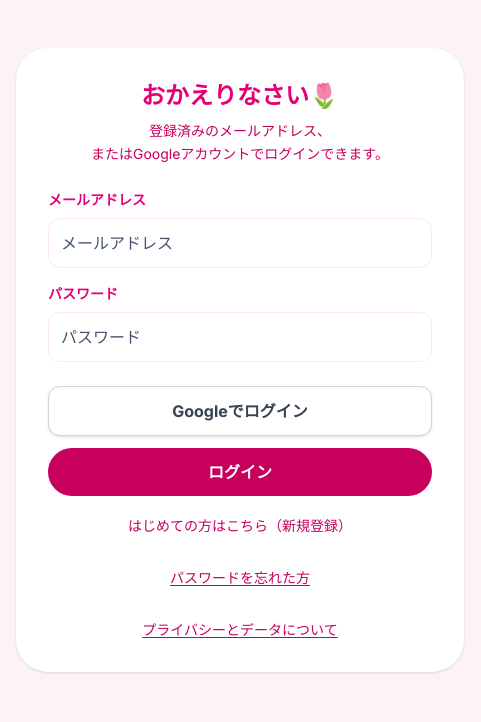
Test: LoginPage › メール未入力とパスワード未入力では認証通信せず入力エラーを表示する
Step 1. Click the button "ログイン" → point(240, 472), box [48, 448, 432, 496]
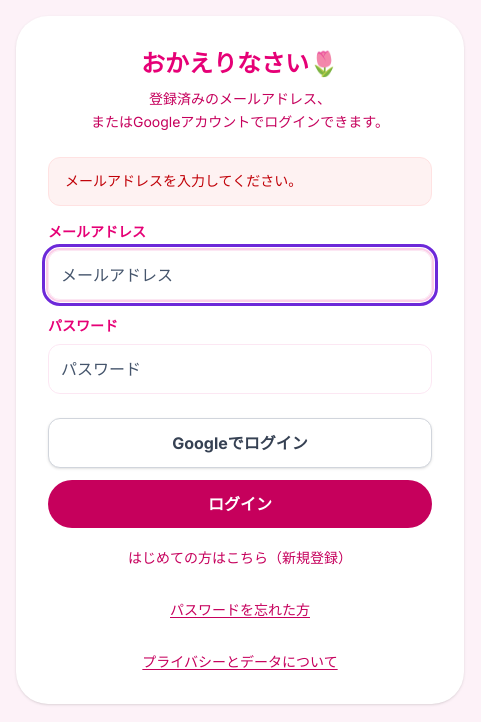
Expected: the message reads "メールアドレスを入力してください。", [65, 172, 302, 189]
Step 2. Type "user@example.com" into the field labelled "メールアドレス" → point(240, 275), box [48, 250, 432, 300]
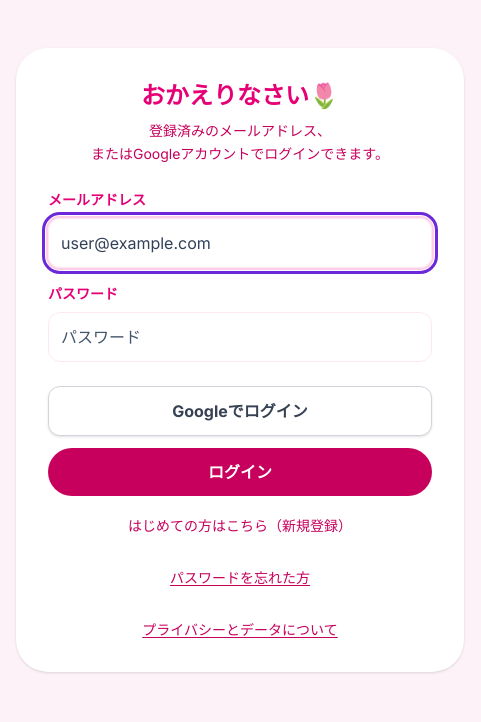
Expected: the message "メールアドレスを入力してください。" is gone
Step 3. Click the button "ログイン" → point(240, 472), box [48, 448, 432, 496]
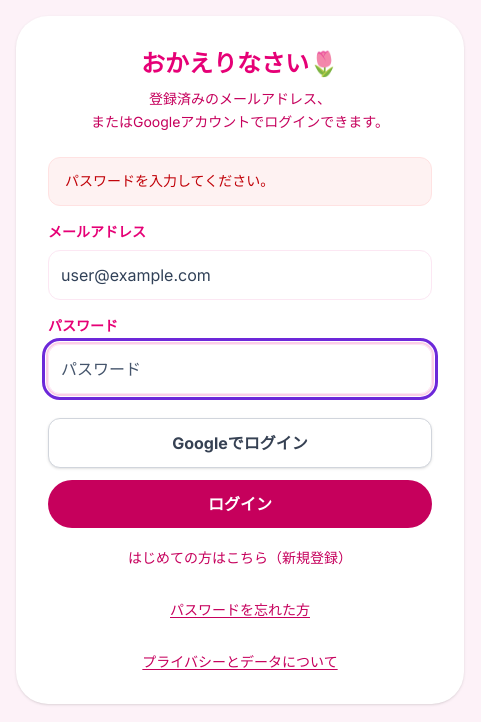
Expected: the message reads "パスワードを入力してください。", [65, 172, 274, 189]
